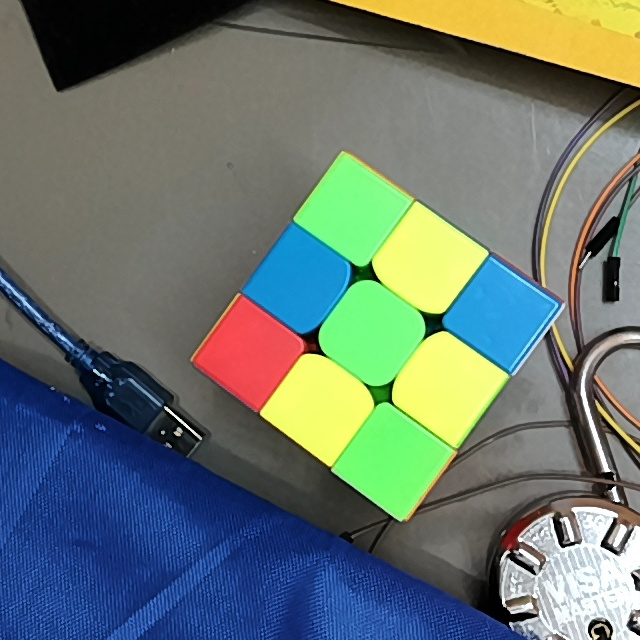tile: (362, 429, 424, 490), (418, 354, 476, 416), (397, 232, 459, 289), (291, 377, 350, 435), (323, 182, 381, 239), (471, 284, 527, 342), (343, 305, 401, 361), (274, 253, 332, 308), (222, 325, 278, 381)
